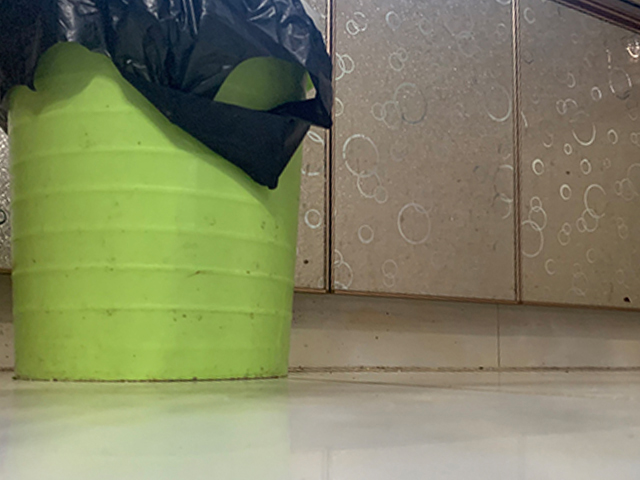cabinet: (295, 1, 640, 370)
trash can: (1, 1, 317, 381)
